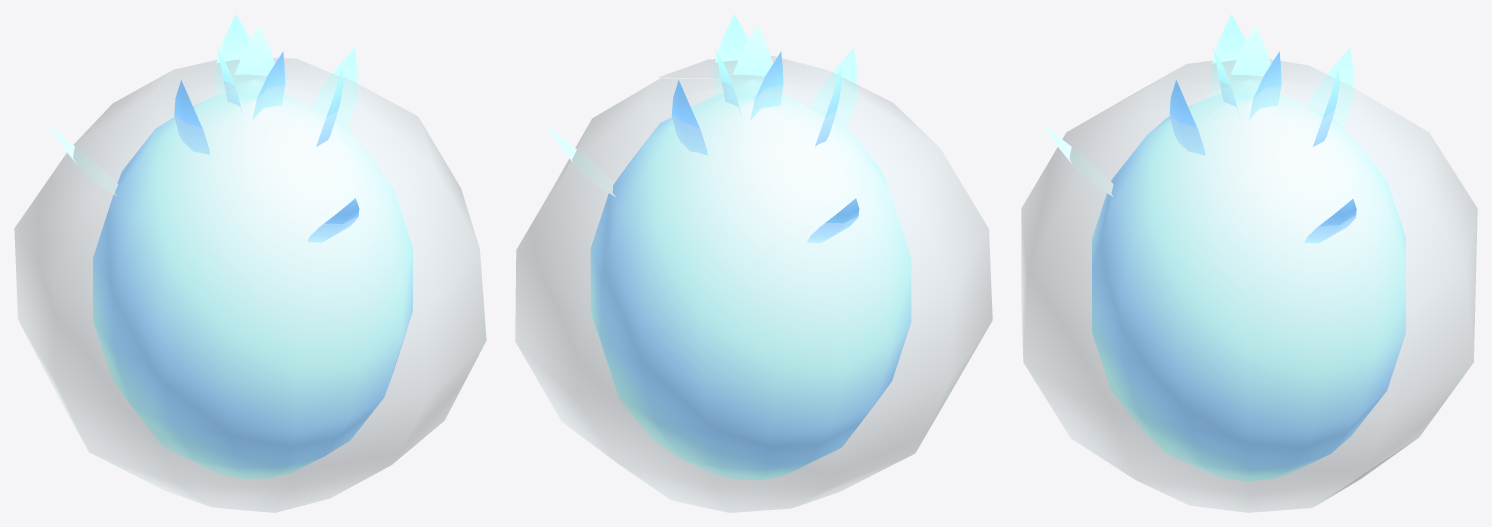
Rendered from fruit-dragon-frozen.gltf.
The picture shows the model from 3 angles, left to right: view 1: azimuth 30°, elevation 25°; view 2: azimuth 150°, elevation 25°; view 3: azimuth 270°, elevation 25°; orthographic projection.
Bounding box in the file's own units: 0.589 × 0.6204 × 0.5692.
